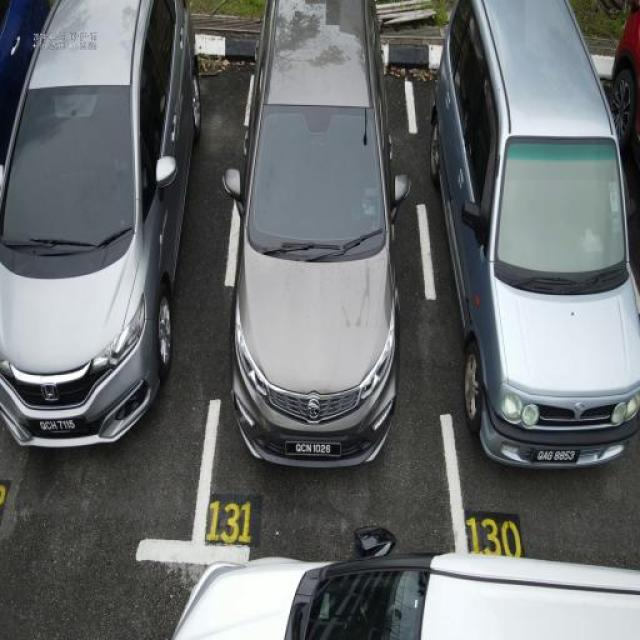Legalparking: (2, 2, 640, 523)
illegalparking: (171, 506, 640, 640)
